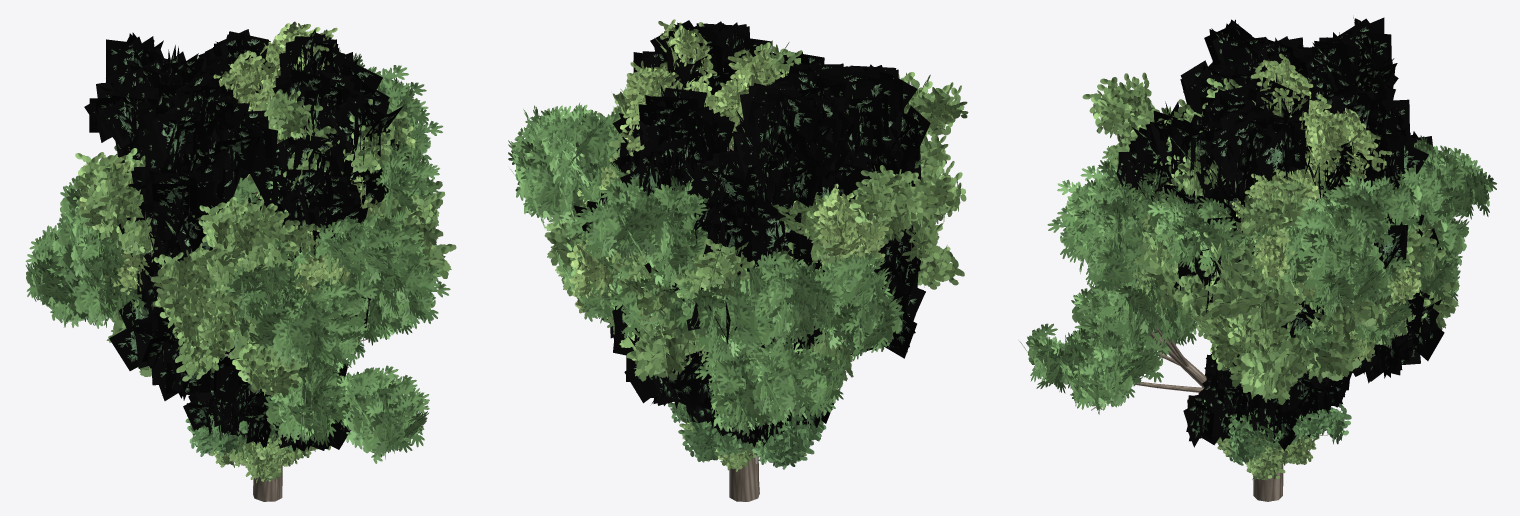
Rendered from EftelingTrees_v2.fbx.
3 views of the same model, side by side, from view 1: azimuth 30°, elevation 25°; view 2: azimuth 150°, elevation 25°; view 3: azimuth 270°, elevation 25° (orthographic). The views are drawn at different scales.
Visible parts, largest first — view 1: kastanje0__MAT_blad_kastanje, den0__MAT_naald_den, beuk0__MAT_blad_beuk, den1__MAT_naald_den, kastanje1__MAT_blad_kastanje, beuk1__MAT_blad_beuk, berk0__MAT_blad_berk, taxus0__MAT_naald_taxus, eik0__MAT_blad_eik, berk1__MAT_blad_berk, struik0__MAT_blad_struik, rododendron1__MAT_blad_rodo (+5 smaller); view 2: den1__MAT_naald_den, kastanje1__MAT_blad_kastanje, kastanje0__MAT_blad_kastanje, den0__MAT_naald_den, beuk1__MAT_blad_beuk, beuk0__MAT_blad_beuk, berk0__MAT_blad_berk, berk1__MAT_blad_berk, eik0__MAT_blad_eik, rododendron0__MAT_blad_rodo, rododendron1__MAT_blad_rodo, taxus1__MAT_naald_taxus (+2 smaller); view 3: kastanje0__MAT_blad_kastanje, den1__MAT_naald_den, den0__MAT_naald_den, kastanje1__MAT_blad_kastanje, eik0__MAT_blad_eik, beuk0__MAT_blad_beuk, berk0__MAT_blad_berk, beuk1__MAT_blad_beuk, berk1__MAT_blad_berk, taxus1__MAT_naald_taxus, taxus0__MAT_naald_taxus, rododendron0__MAT_blad_rodo (+3 smaller).
Part boxes in pixels (left/top/right/bottom): kastanje0__MAT_blad_kastanje: left=60, top=50, right=450, bottom=463; den0__MAT_naald_den: left=109, top=69, right=422, bottom=403; beuk0__MAT_blad_beuk: left=124, top=89, right=436, bottom=398; den1__MAT_naald_den: left=84, top=29, right=389, bottom=209; kastanje1__MAT_blad_kastanje: left=25, top=56, right=439, bottom=347; beuk1__MAT_blad_beuk: left=75, top=111, right=408, bottom=262; berk0__MAT_blad_berk: left=213, top=21, right=386, bottom=358; taxus0__MAT_naald_taxus: left=183, top=377, right=273, bottom=448; eik0__MAT_blad_eik: left=369, top=177, right=456, bottom=282; berk1__MAT_blad_berk: left=73, top=121, right=415, bottom=295; struik0__MAT_blad_struik: left=240, top=424, right=330, bottom=482; rododendron1__MAT_blad_rodo: left=187, top=422, right=296, bottom=459; den1__MAT_naald_den: left=602, top=20, right=871, bottom=409; kastanje1__MAT_blad_kastanje: left=573, top=158, right=924, bottom=433; kastanje0__MAT_blad_kastanje: left=508, top=103, right=933, bottom=436; den0__MAT_naald_den: left=574, top=21, right=930, bottom=409; beuk1__MAT_blad_beuk: left=600, top=87, right=938, bottom=338; beuk0__MAT_blad_beuk: left=753, top=40, right=968, bottom=289; berk0__MAT_blad_berk: left=597, top=19, right=788, bottom=197; berk1__MAT_blad_berk: left=566, top=112, right=888, bottom=313; eik0__MAT_blad_eik: left=544, top=202, right=700, bottom=381; rododendron0__MAT_blad_rodo: left=678, top=416, right=826, bottom=461; rododendron1__MAT_blad_rodo: left=668, top=402, right=823, bottom=469; taxus1__MAT_naald_taxus: left=685, top=405, right=791, bottom=447; kastanje0__MAT_blad_kastanje: left=1019, top=121, right=1457, bottom=414; den1__MAT_naald_den: left=1163, top=17, right=1432, bottom=388; den0__MAT_naald_den: left=1116, top=19, right=1444, bottom=360; kastanje1__MAT_blad_kastanje: left=1057, top=135, right=1496, bottom=321; eik0__MAT_blad_eik: left=1133, top=227, right=1459, bottom=404; beuk0__MAT_blad_beuk: left=1082, top=72, right=1254, bottom=325; berk0__MAT_blad_berk: left=1141, top=53, right=1392, bottom=236; beuk1__MAT_blad_beuk: left=1191, top=168, right=1445, bottom=370; berk1__MAT_blad_berk: left=1219, top=155, right=1421, bottom=377; taxus1__MAT_naald_taxus: left=1183, top=353, right=1351, bottom=447; taxus0__MAT_naald_taxus: left=1199, top=367, right=1348, bottom=450; rododendron0__MAT_blad_rodo: left=1225, top=403, right=1351, bottom=465.
Bounding box in the file's own units: 13.64 × 14.91 × 14.97.
12 materials, 12 textured.
